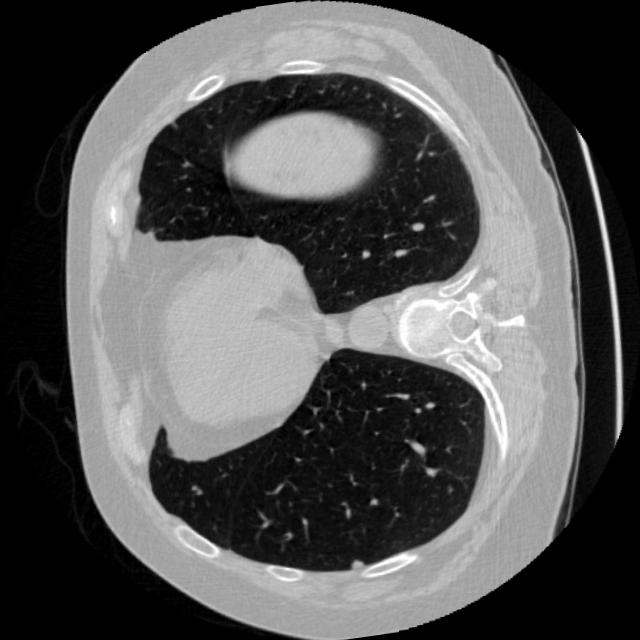nodule: (341, 548, 369, 576)
